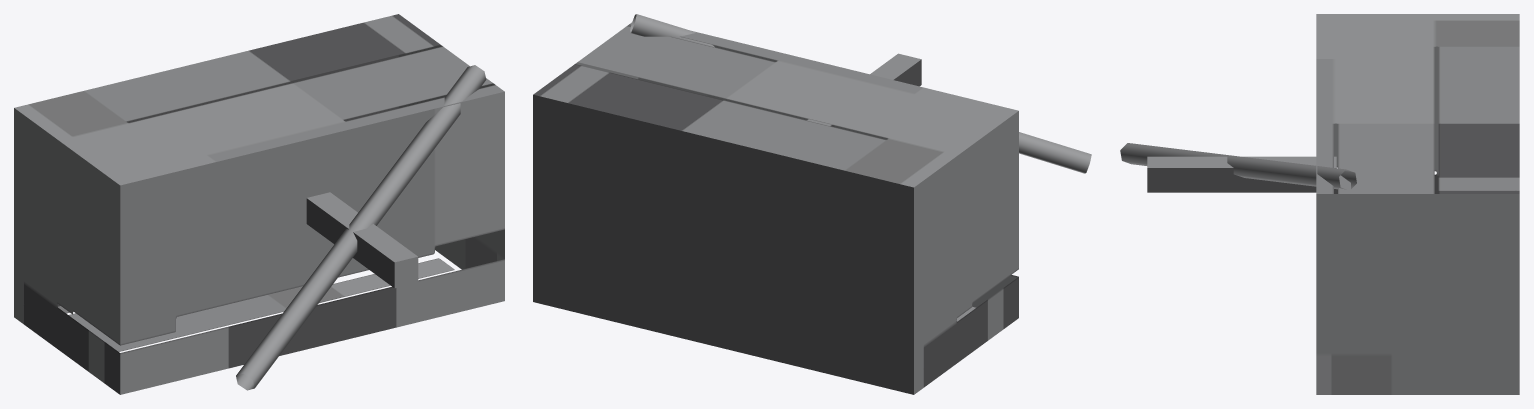
3 renders of one model, left to right at view 1: azimuth 30°, elevation 25°; view 2: azimuth 150°, elevation 25°; view 3: azimuth 270°, elevation 25°, orthographic. The views are drawn at different scales.
Size of the model in its own units: 0.857 by 0.4858 by 0.8039.
